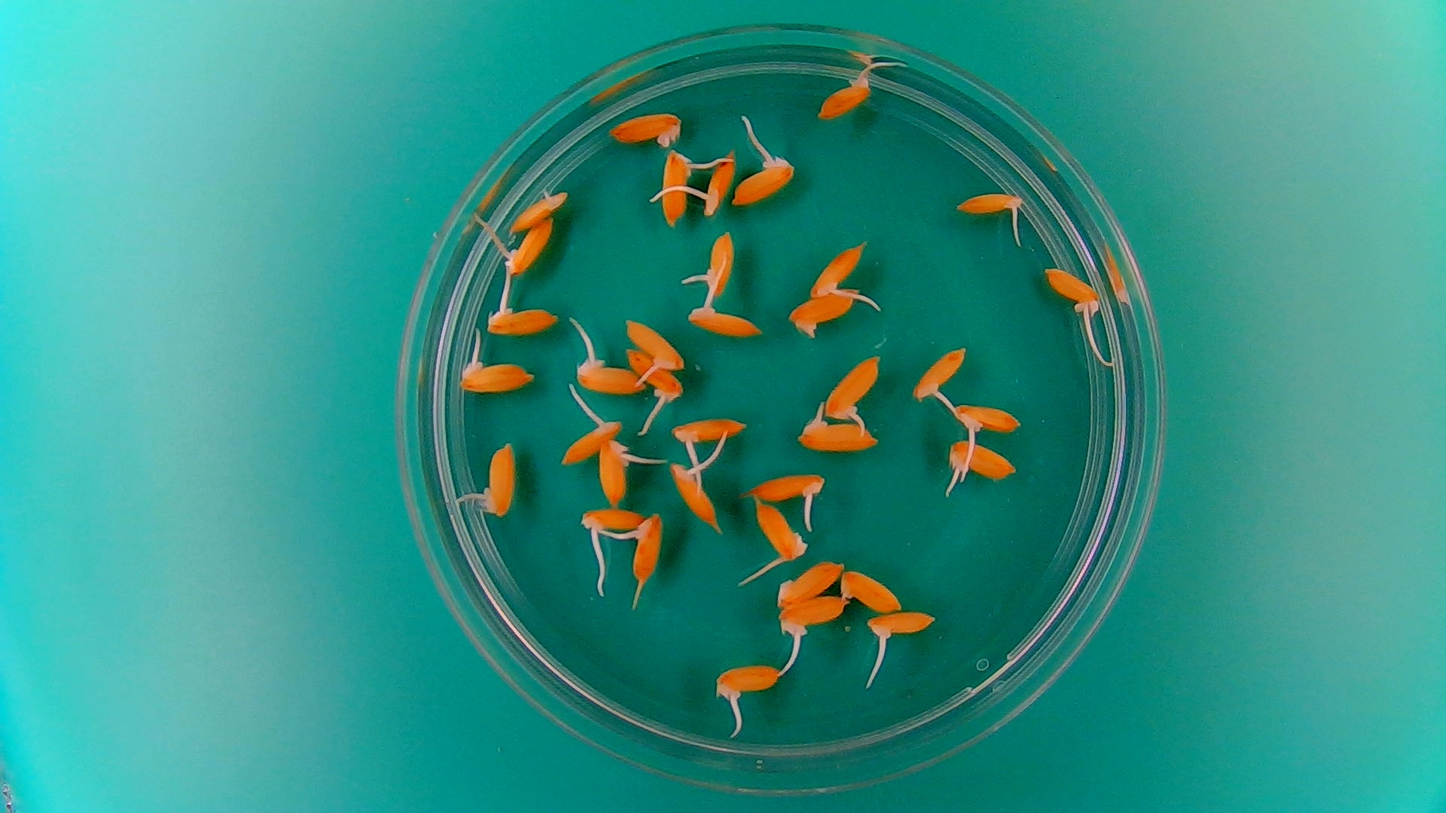no: (785, 286, 868, 340), (773, 557, 846, 608), (606, 107, 685, 148), (840, 568, 906, 614)
yes: (822, 352, 884, 422), (909, 341, 970, 404), (667, 461, 721, 532), (795, 409, 880, 453), (752, 500, 810, 564), (623, 314, 689, 370), (807, 236, 864, 299), (627, 350, 688, 405), (776, 595, 854, 638), (730, 157, 794, 208), (506, 184, 572, 233), (503, 215, 557, 274), (743, 468, 824, 507), (693, 227, 738, 296), (686, 299, 762, 338), (558, 418, 619, 466), (659, 147, 696, 224), (1041, 265, 1099, 313), (948, 443, 1017, 483), (455, 359, 533, 394), (572, 358, 645, 395), (669, 415, 751, 446), (484, 447, 518, 519), (816, 78, 874, 120), (484, 305, 560, 337), (712, 665, 783, 699), (699, 153, 735, 219), (596, 438, 630, 507), (578, 504, 647, 537), (946, 404, 1020, 434), (867, 608, 932, 640), (631, 515, 660, 586), (951, 190, 1020, 216)
